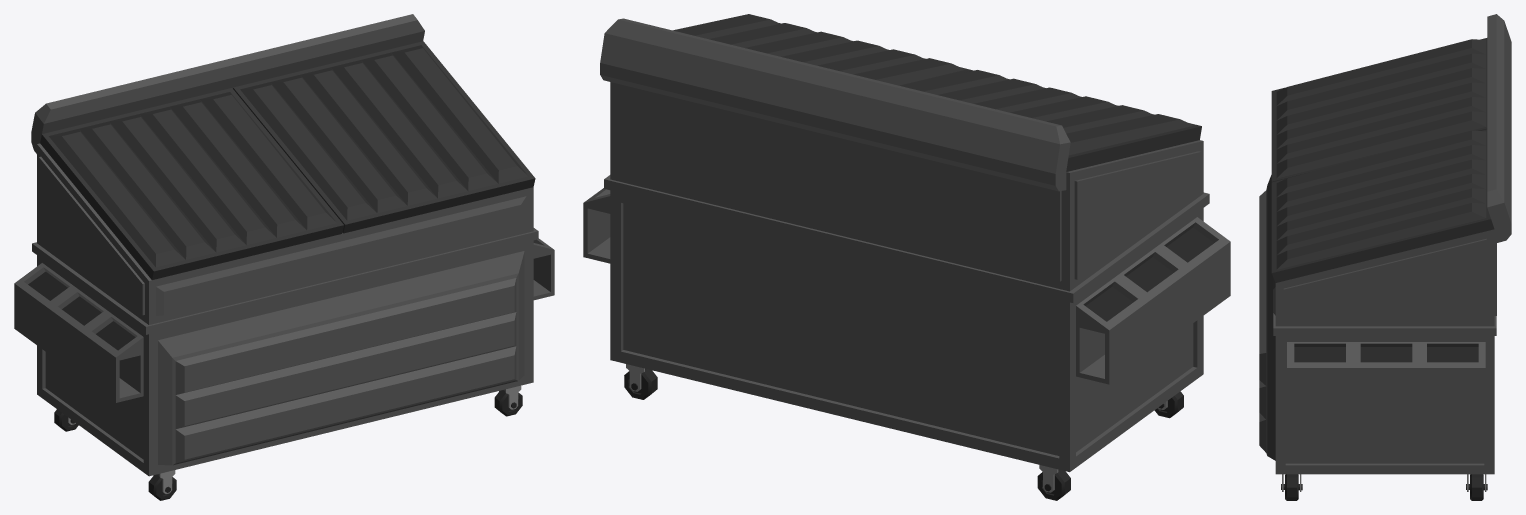
Rendered from props_68.glb.
3 views of the same model, side by side, from view 1: azimuth 30°, elevation 25°; view 2: azimuth 150°, elevation 25°; view 3: azimuth 270°, elevation 25° (orthographic). The views are drawn at different scales.
Visible parts, largest first — view 1: props_68; view 2: props_68; view 3: props_68.
Part boxes in pixels (x1,y1,x2,y2): props_68: [14, 14, 554, 500]; props_68: [583, 14, 1230, 500]; props_68: [1259, 14, 1511, 500].
Bounding box in the file's own units: 2.28 × 1.59 × 1.16.
1 material, 1 textured.
